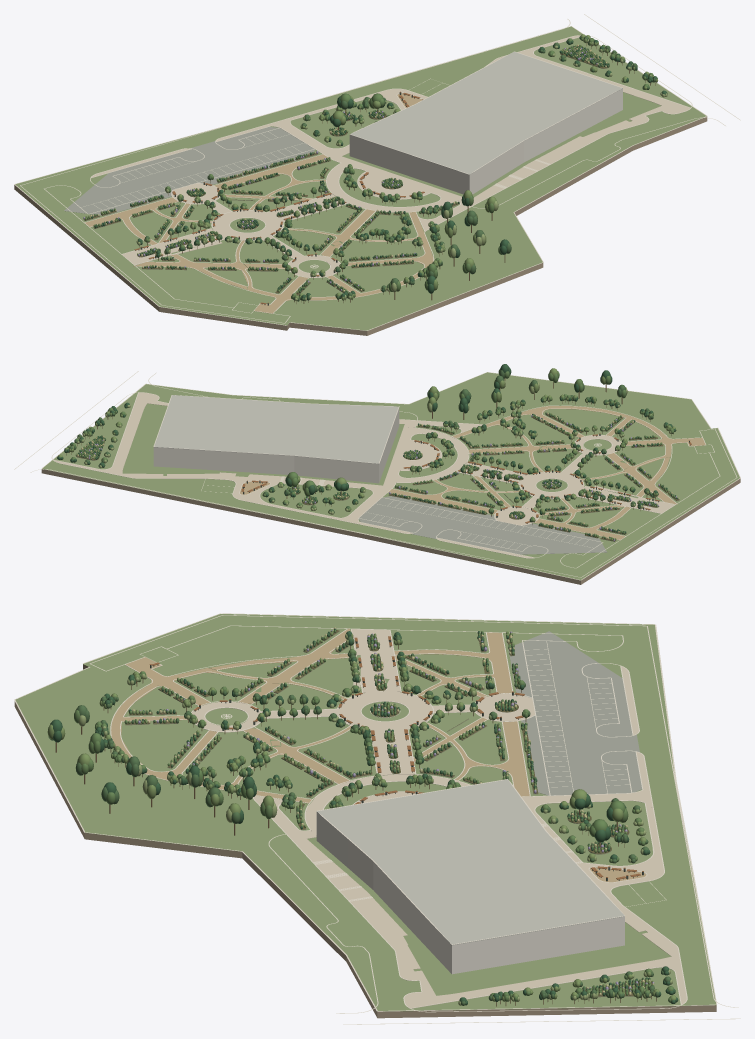
Rendered from 园林模型.glb.
The picture shows the model from 3 angles, top to bottom: view 1: azimuth 30°, elevation 25°; view 2: azimuth 150°, elevation 25°; view 3: azimuth 270°, elevation 25°; orthographic projection. The views are drawn at different scales.
Parts seen in each view (by area): view 1: 连续草坪基面, 平屋面_高度假定, parking_1, paving_2, 建筑体量_12EA0, 花境团簇 (×4), 场地土层, paving_12, gravel_1, 场地边界, gravel_8, paving_1 (+7 smaller); view 2: 连续草坪基面, 平屋面_高度假定, parking_1, 花境团簇 (×6), paving_2, 建筑体量_12EA0, 场地土层, 场地边界, gravel_1, paving_5, gravel_8, paving_12 (+10 smaller); view 3: 连续草坪基面, 平屋面_高度假定, parking_1, 建筑体量_12EA0, paving_2, 花境团簇 (×4), 场地土层, paving_12, gravel_1, 场地边界, gravel_8, paving_1 (+9 smaller).
Part boxes in pixels (x1,y1,x2,y2): 连续草坪基面: (15, 26, 706, 330); 平屋面_高度假定: (350, 52, 622, 174); parking_1: (64, 126, 314, 215); paving_2: (122, 159, 461, 277); 建筑体量_12EA0: (349, 88, 622, 194); 花境团簇 (×4): (85, 45, 609, 293); 场地土层: (14, 117, 707, 335); paving_12: (535, 56, 690, 164); gravel_1: (133, 240, 307, 313); 场地边界: (14, 26, 707, 330); gravel_8: (288, 209, 433, 267); paving_1: (419, 159, 549, 231); 连续草坪基面: (42, 372, 739, 580); 平屋面_高度假定: (154, 395, 398, 464); parking_1: (359, 496, 607, 554); 花境团簇 (×6): (75, 412, 679, 541); paving_2: (384, 427, 674, 513); 建筑体量_12EA0: (153, 408, 399, 483); 场地土层: (41, 469, 740, 584); 场地边界: (41, 372, 740, 580); gravel_1: (581, 437, 705, 504); paving_5: (281, 476, 412, 533); gravel_8: (453, 406, 584, 472); paving_12: (113, 392, 168, 466); 连续草坪基面: (15, 614, 716, 1011); 平屋面_高度假定: (316, 779, 624, 945); parking_1: (508, 631, 641, 795); 建筑体量_12EA0: (316, 812, 624, 974); paving_2: (192, 629, 474, 835); 花境团簇 (×4): (124, 628, 654, 996); 场地土层: (14, 664, 716, 1018); paving_12: (350, 898, 654, 1008); gravel_1: (126, 628, 350, 705); 场地边界: (14, 613, 716, 1011); gravel_8: (144, 726, 351, 803); paving_1: (253, 795, 371, 900).
Size of the model in its own units: 202 by 9.18 by 151.
